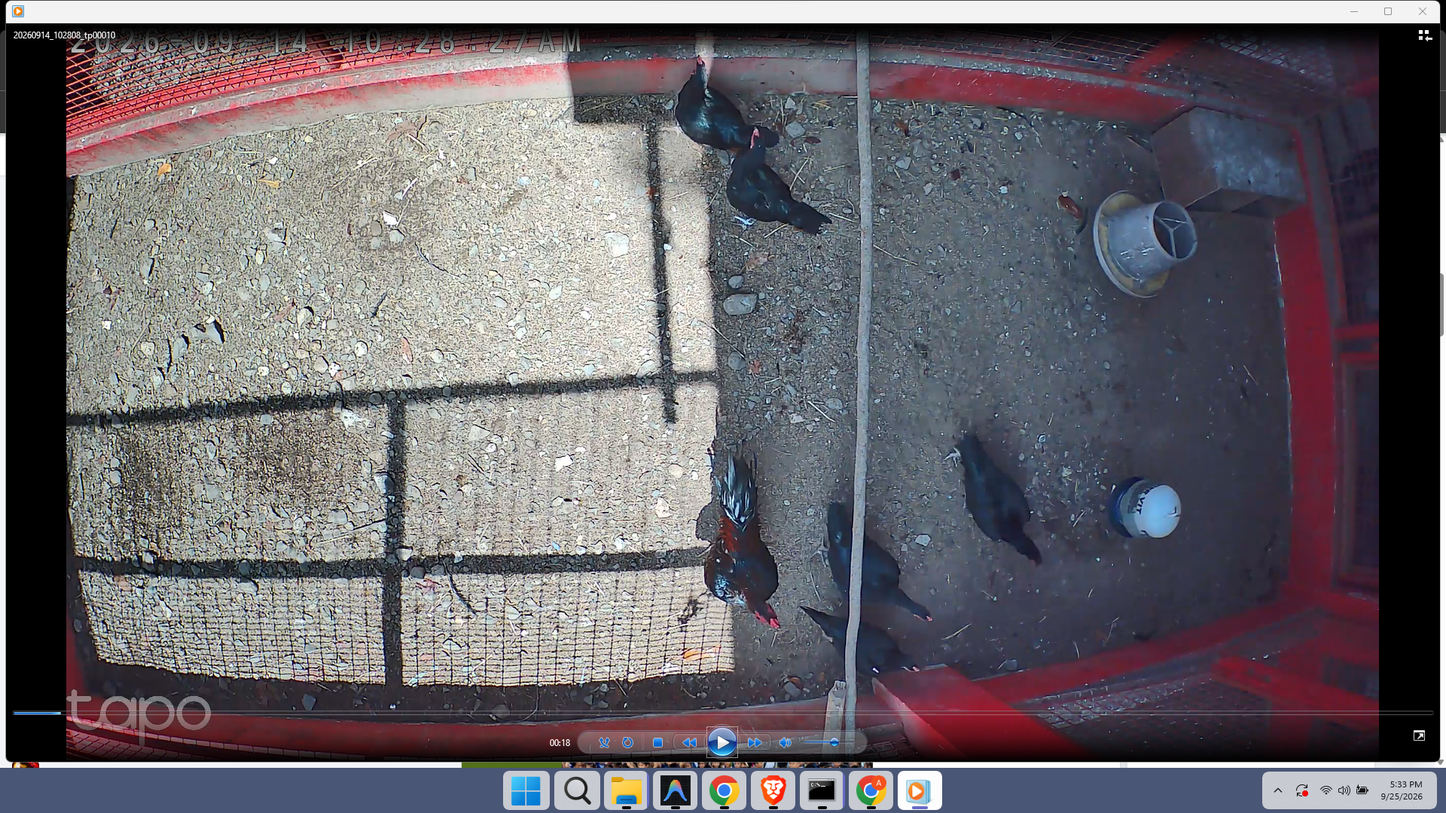Chicken: (809, 502, 938, 622), (944, 435, 1050, 570), (725, 128, 835, 240), (671, 51, 783, 149), (793, 603, 923, 677)
Drinker: (1102, 474, 1185, 541)
Feeder: (1090, 187, 1202, 312)
Rooster: (691, 454, 789, 640)
